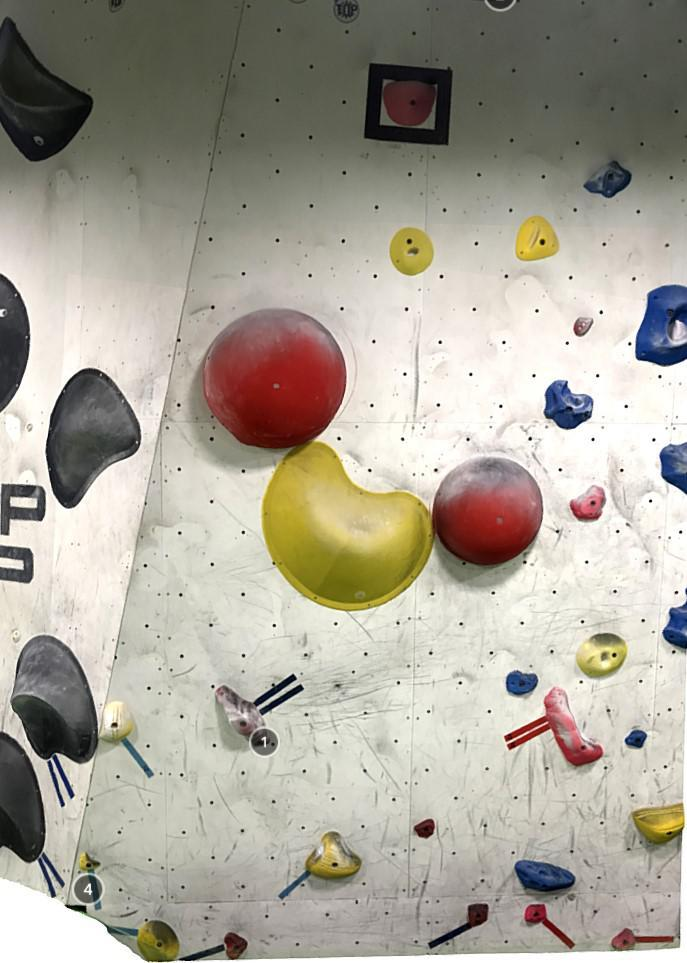hold: (261, 441, 436, 611), (203, 308, 347, 449), (0, 17, 93, 162), (45, 368, 141, 508), (432, 456, 543, 566), (11, 635, 97, 764), (0, 732, 45, 864), (544, 686, 603, 765), (0, 272, 30, 414), (636, 284, 687, 366), (216, 685, 271, 747), (305, 830, 361, 879), (383, 80, 436, 127), (544, 380, 594, 429), (576, 633, 627, 677), (631, 802, 684, 844), (390, 226, 434, 275), (516, 214, 559, 261), (514, 860, 574, 891), (583, 160, 631, 198), (136, 920, 179, 961), (98, 700, 134, 742), (663, 586, 687, 649), (659, 442, 687, 495), (570, 485, 606, 521), (506, 670, 538, 695), (224, 931, 248, 959), (611, 927, 635, 949), (468, 903, 489, 926), (572, 316, 594, 337), (78, 851, 101, 871), (524, 903, 547, 923), (624, 729, 647, 747), (414, 818, 435, 837)
